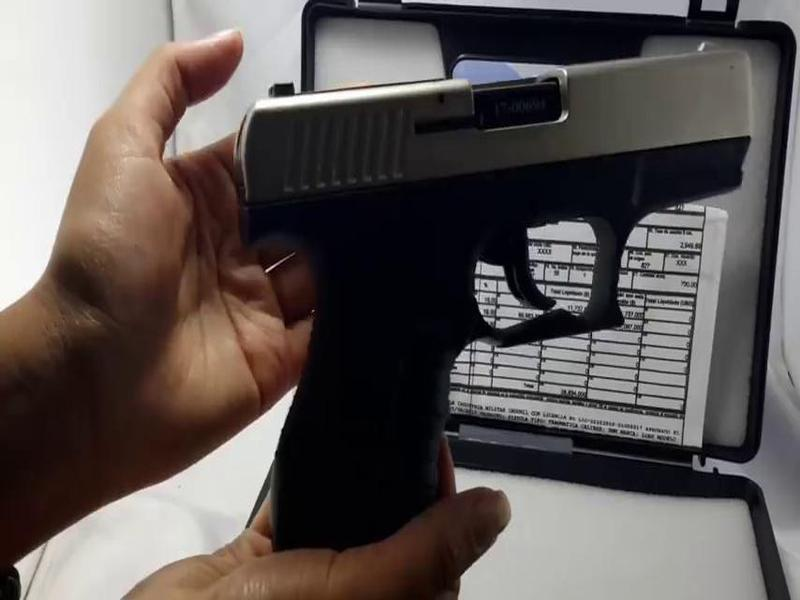Pistola: (192, 33, 772, 561)
